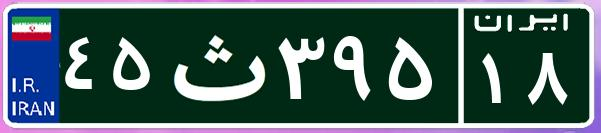1: (475, 38, 525, 113)
3: (273, 28, 330, 110)
4: (57, 26, 110, 107)
5: (385, 28, 445, 110), (110, 28, 158, 105)
8: (525, 38, 570, 115)
9: (330, 28, 385, 110)
ث: (158, 15, 273, 115)
